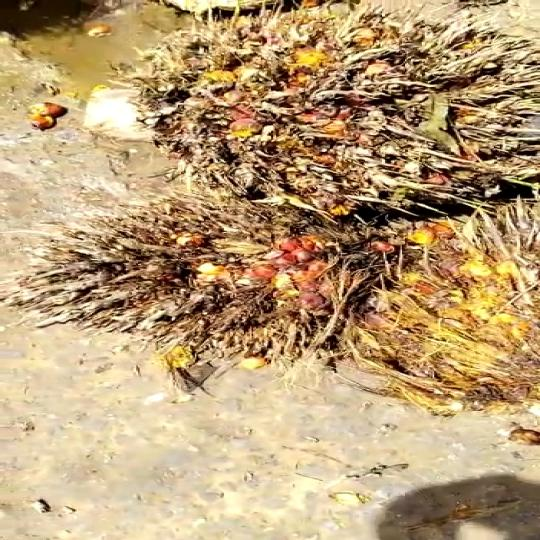terlalu masak: (80, 19, 535, 206), (0, 198, 376, 363)
